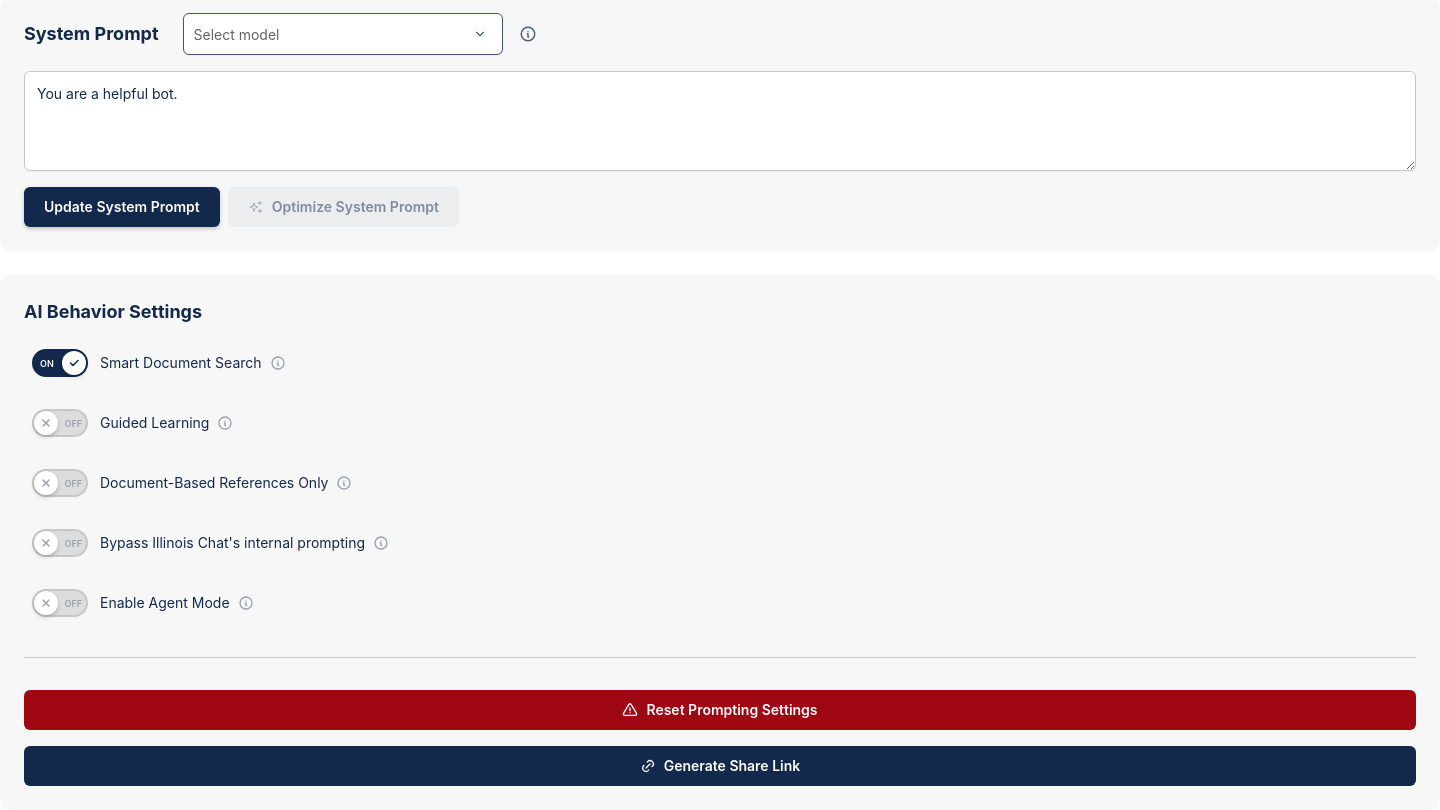
Test: PromptEditorEmbed › reset prompt › opens modal on click
The image size is (1440, 810).
(page scrolled)
What coordinates should you click on to do the following:
click the button "Reset Prompting Settings"
I would click on:
 (720, 710)
Its box is [24, 690, 1416, 730].
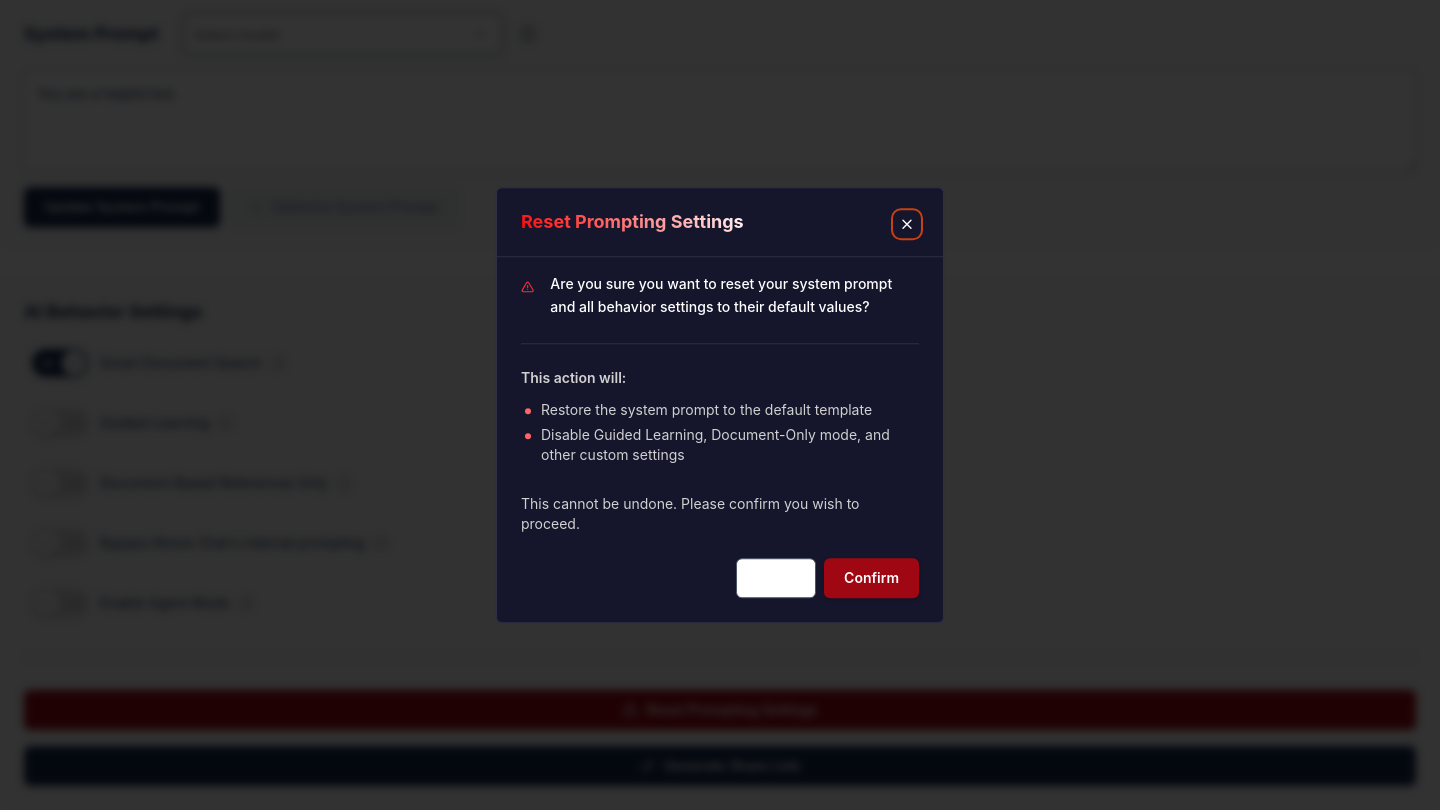
Check: the text "Are you sure you want to reset" is shown, box [550, 275, 892, 315]
